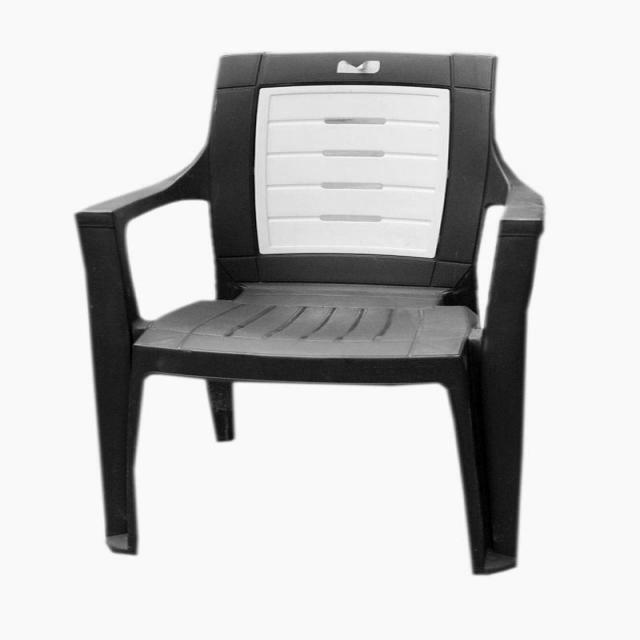chair: (58, 52, 554, 581)
